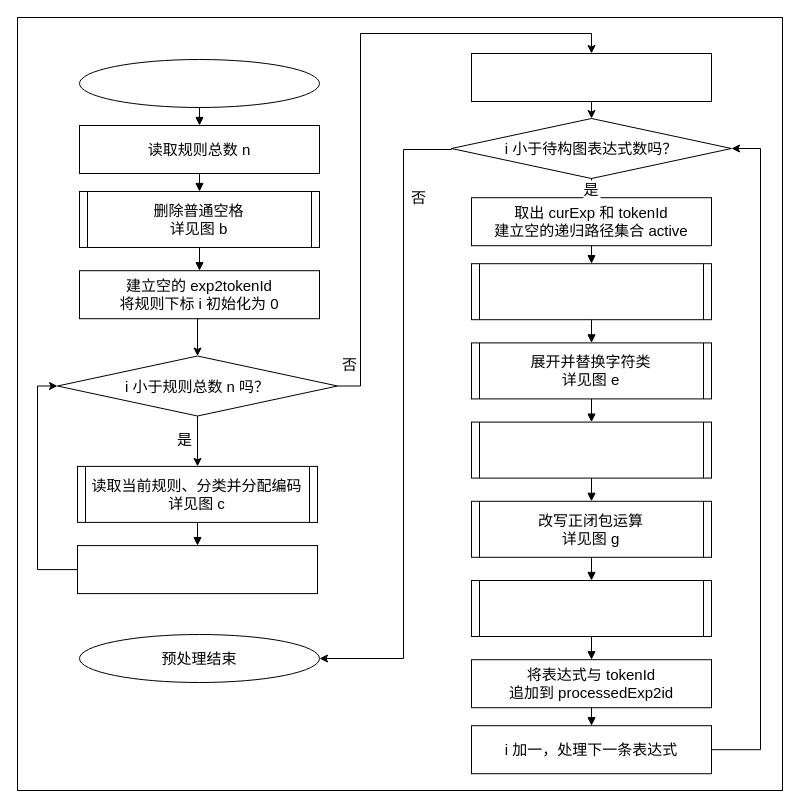
The diagram is 800 pixels wide and 808 high, and some of its shapes have lost their labels. The shapes that lost their labels are listed below. From the top down, each one's box as (x1, y1, x2, y2) in pixels, then its label:
(78, 58, 320, 108): 开始
(470, 52, 712, 102): 将表达式下标 i 初始化为 0
(470, 263, 712, 320): 递归展开宏引用 详见图 d
(470, 421, 712, 478): 为取反符号及操作数加括号 详见图 f
(76, 545, 318, 594): i 加一，处理下一条规则
(470, 580, 712, 636): 改写可选运算 详见图 h
